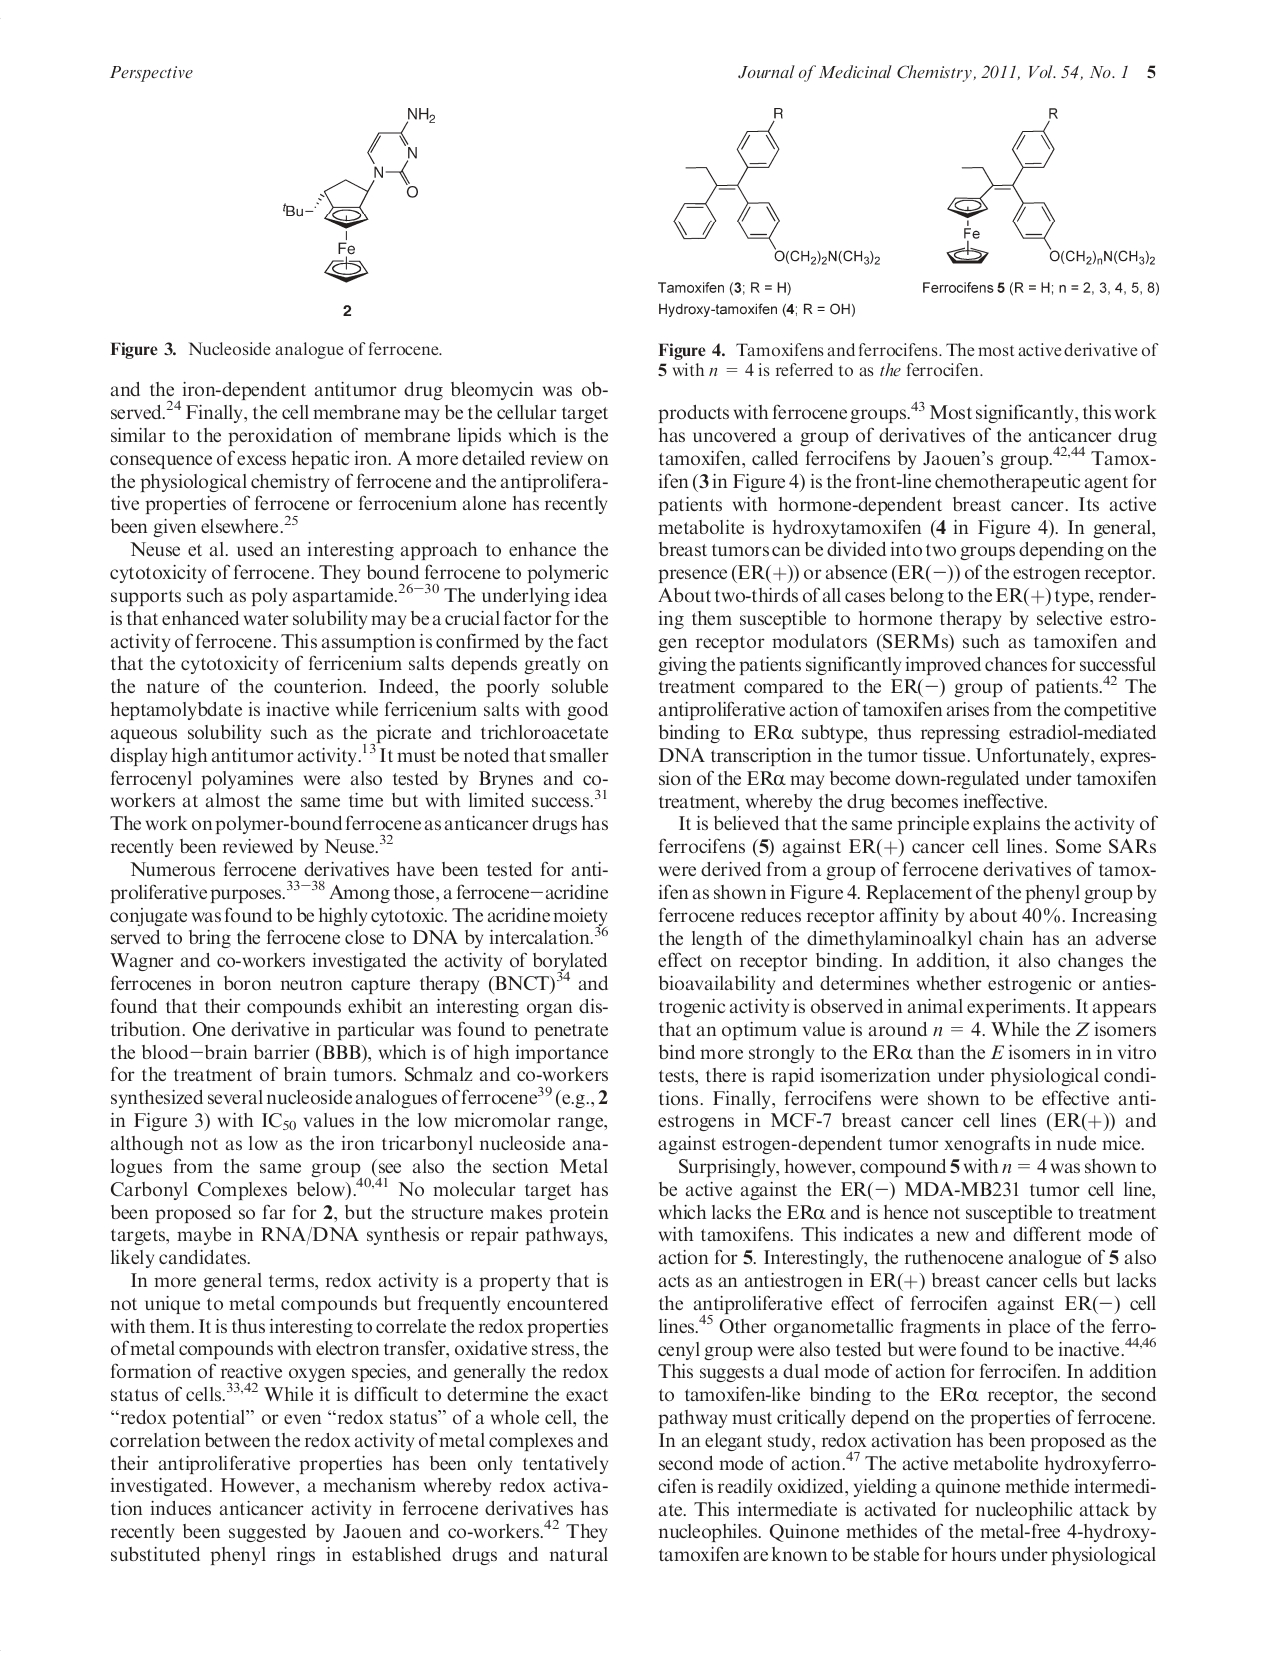exist_molecular: (943, 105, 1164, 273), (669, 104, 886, 270), (281, 104, 438, 286)
